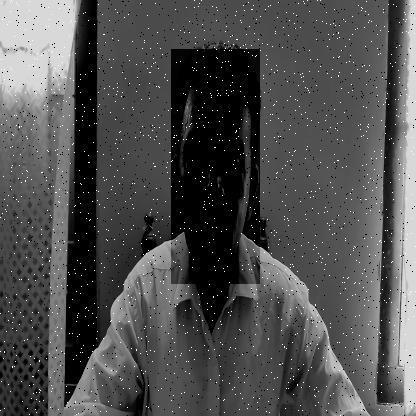Normal: (171, 49, 260, 284)
